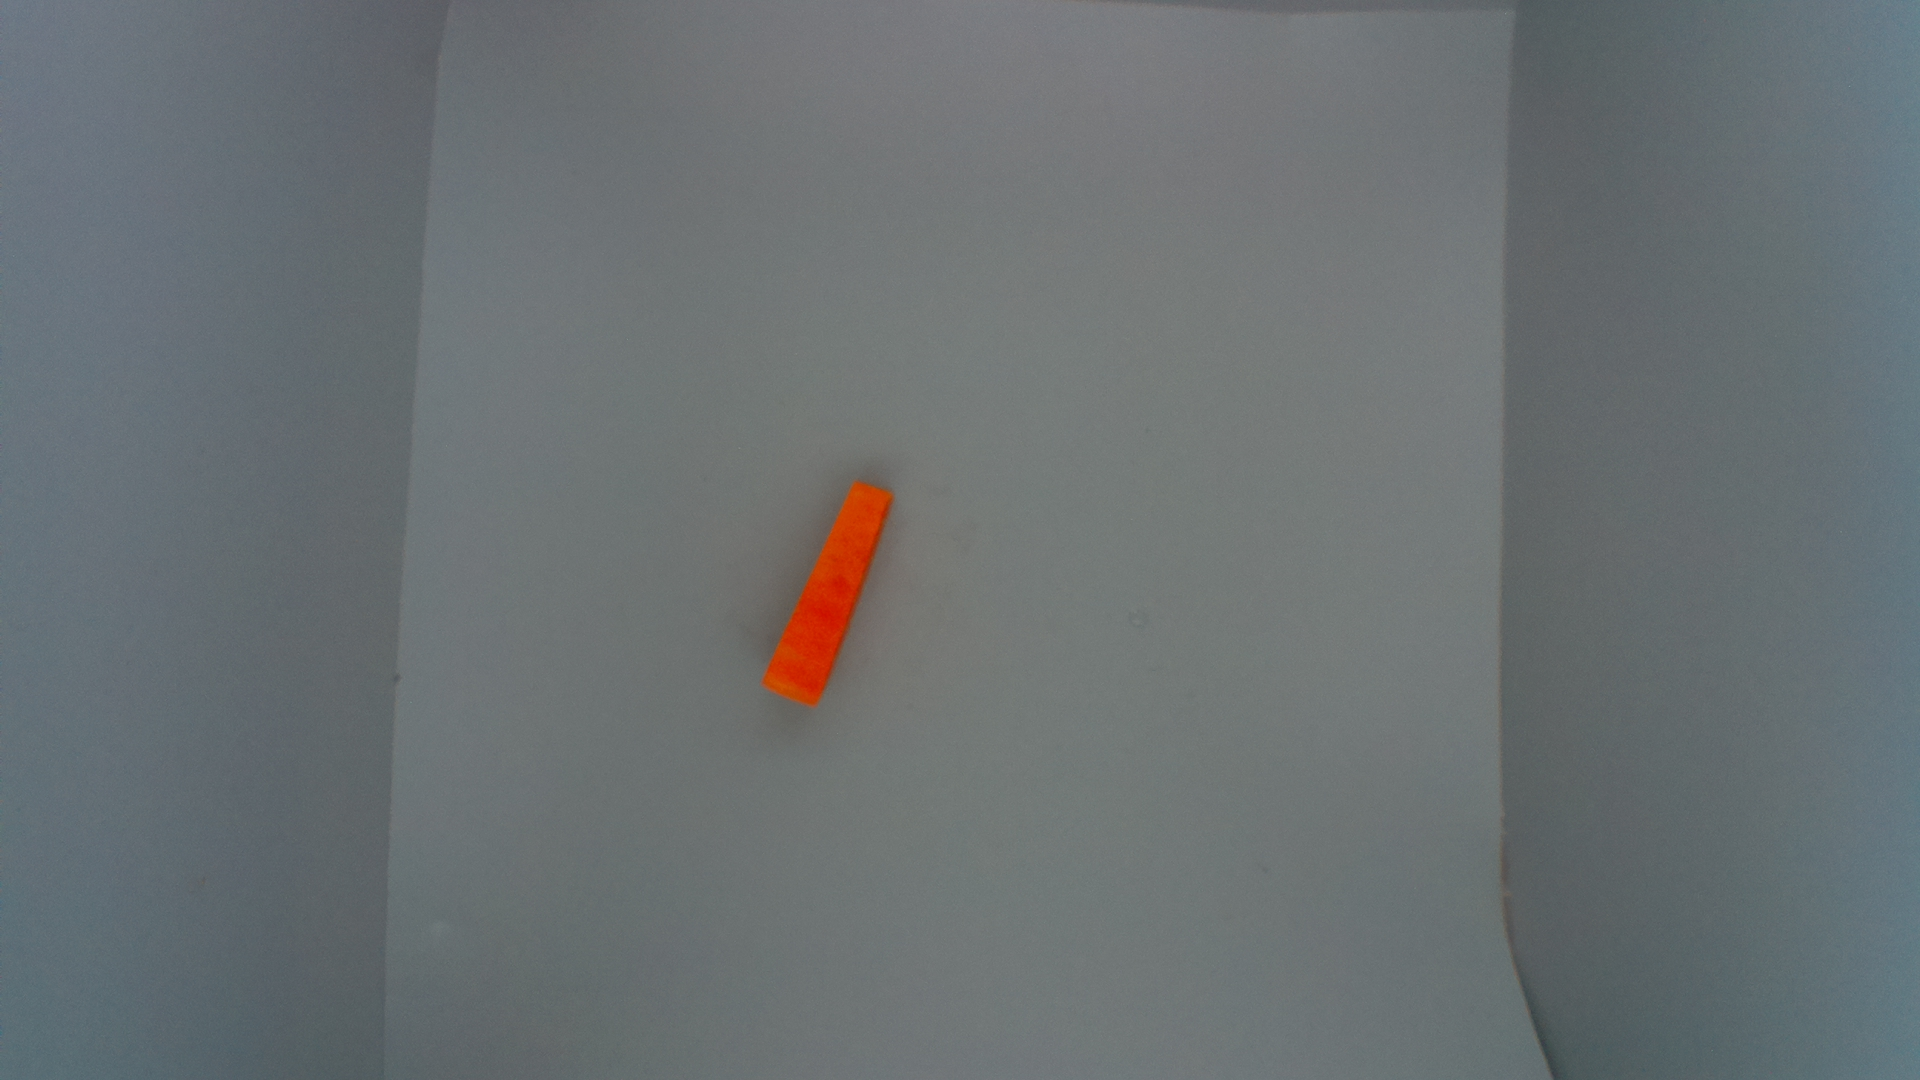carrot: (762, 476, 893, 711)
